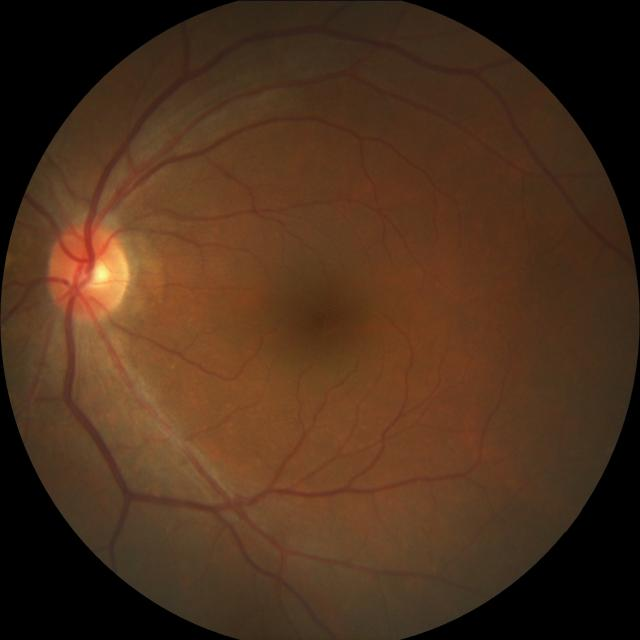OC: (74, 255, 111, 293)
OD: (46, 224, 128, 318)
